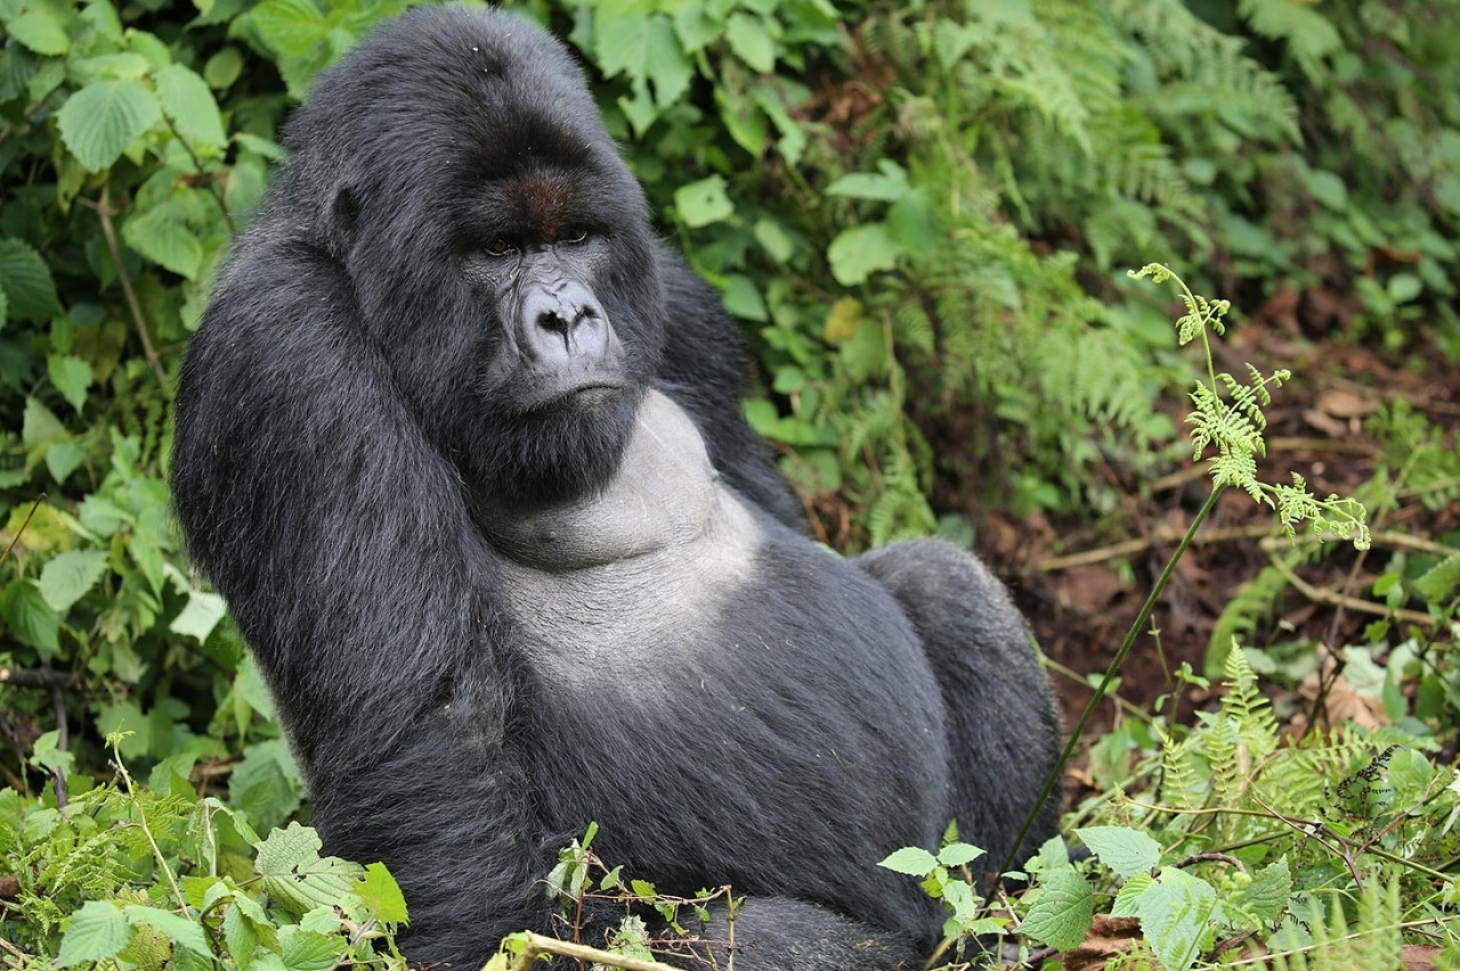Goriila: (137, 20, 1145, 971)
